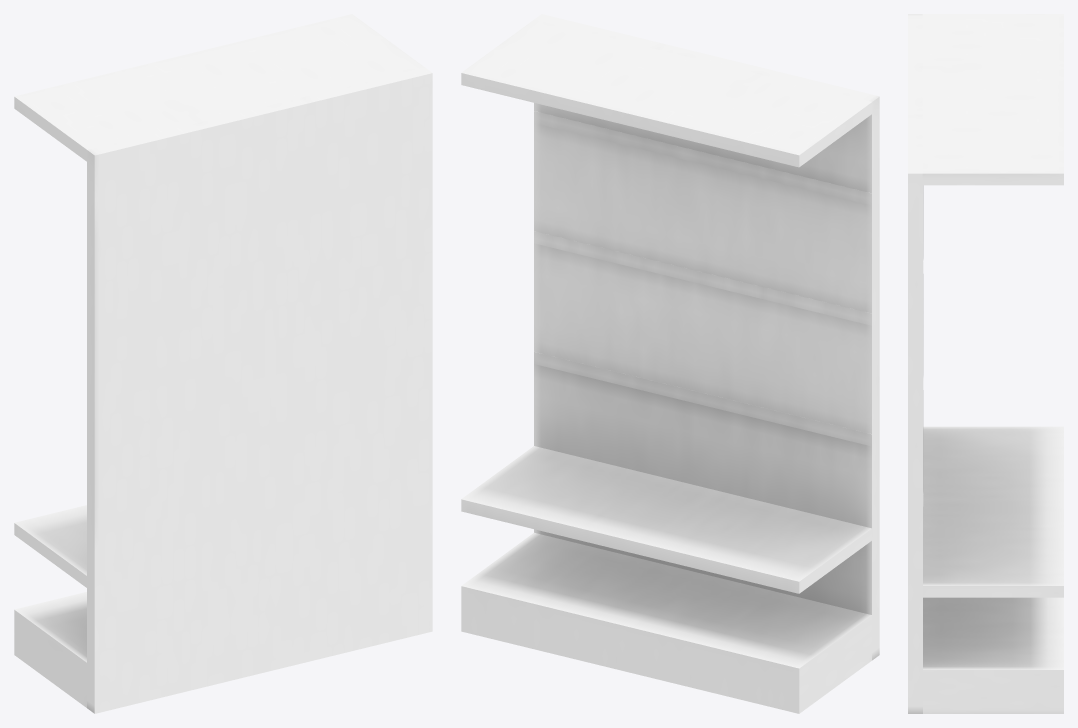
The model's file is ShelfTwo.glb.
The picture shows the model from 3 angles, left to right: view 1: azimuth 30°, elevation 25°; view 2: azimuth 150°, elevation 25°; view 3: azimuth 270°, elevation 25°; orthographic projection. The views are drawn at different scales.
Parts seen in each view (by area): view 1: ShelfTwo; view 2: ShelfTwo; view 3: ShelfTwo.
Part boxes in pixels (bbox=[...]): ShelfTwo: bbox=[14, 14, 432, 713]; ShelfTwo: bbox=[461, 14, 879, 713]; ShelfTwo: bbox=[908, 14, 1063, 713].
Bounding box in the file's own units: 1.27 × 2 × 0.5231.
1 material, 1 textured.
